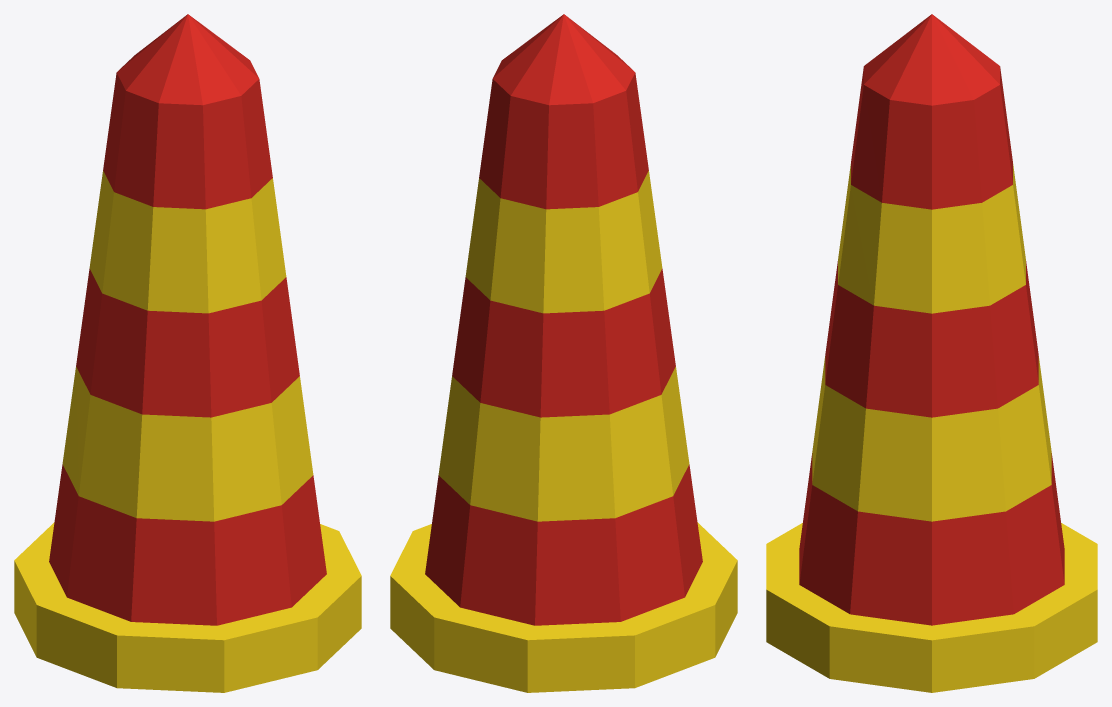
Rendered from boya_giro.obj.
The picture shows the model from 3 angles, left to right: view 1: azimuth 30°, elevation 25°; view 2: azimuth 150°, elevation 25°; view 3: azimuth 270°, elevation 25°; orthographic projection.
Parts seen in each view (by area): view 1: boya_giro; view 2: boya_giro; view 3: boya_giro.
Boxes of the visible parts, x1,y1,x2,y2 form: boya_giro: (14, 14, 361, 692); boya_giro: (390, 14, 737, 692); boya_giro: (766, 14, 1097, 692).
Size of the model in its own units: 1.8 by 3.45 by 1.71.
